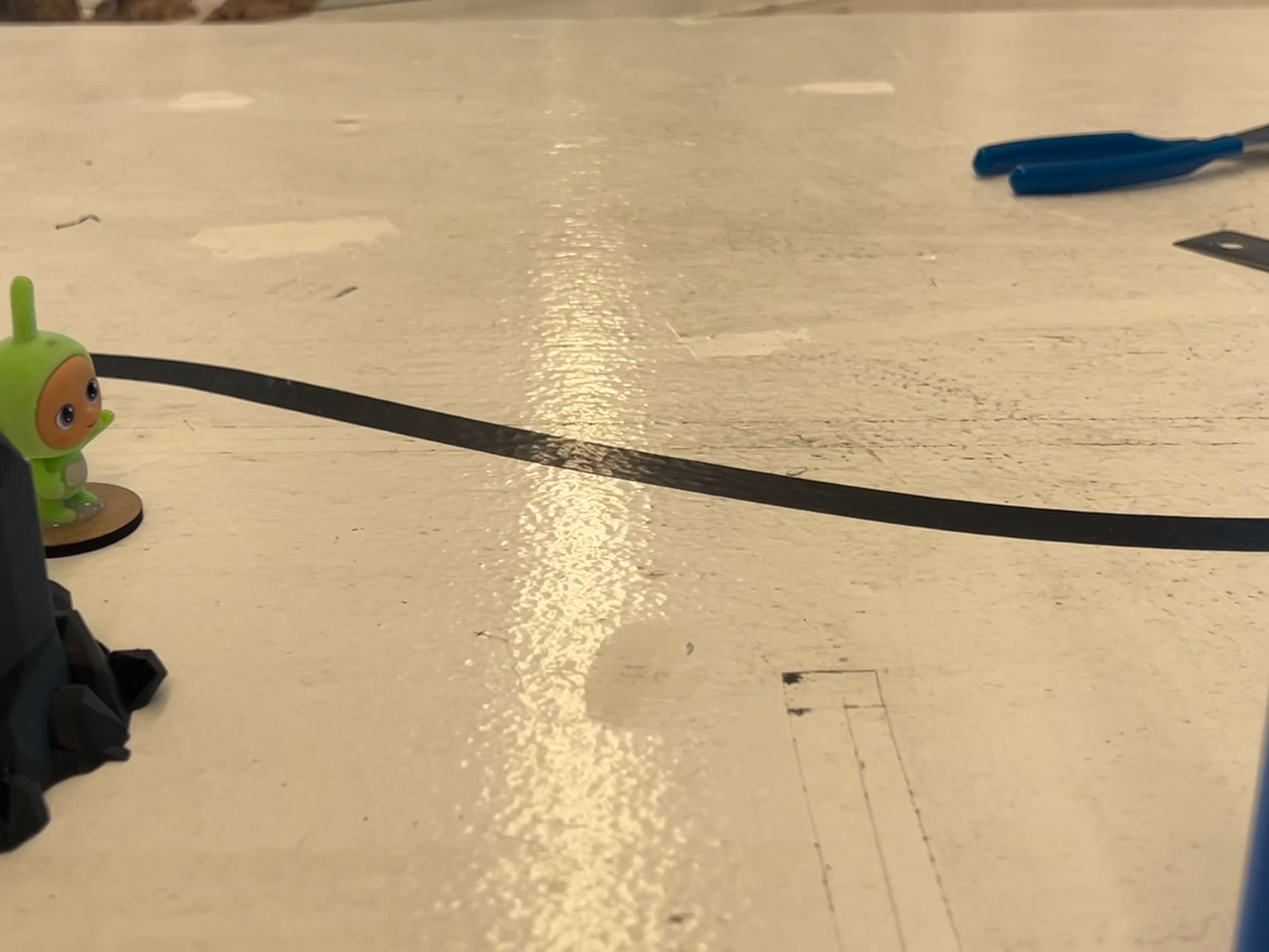teletubby: (0, 276, 114, 526)
